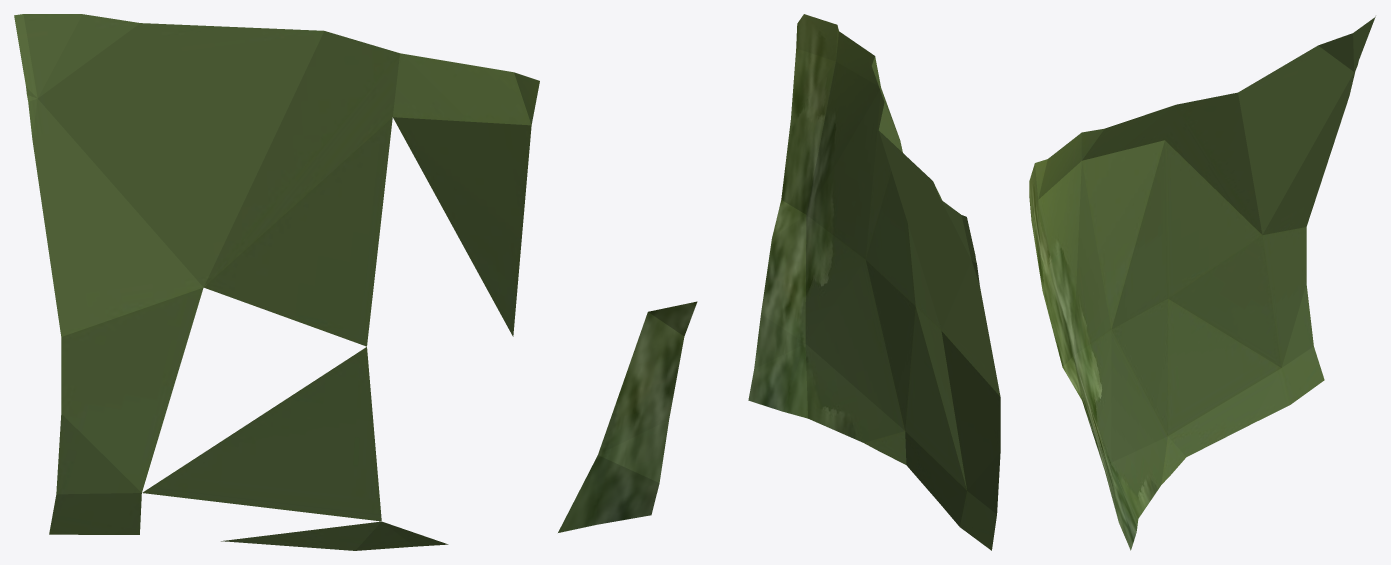
The picture shows the model from 3 angles, left to right: view 1: azimuth 30°, elevation 25°; view 2: azimuth 150°, elevation 25°; view 3: azimuth 270°, elevation 25°; orthographic projection. The views are drawn at different scales.
Bounding box in the file's own units: 2.95 × 2.95 × 2.54.
3 materials, 3 textured.
